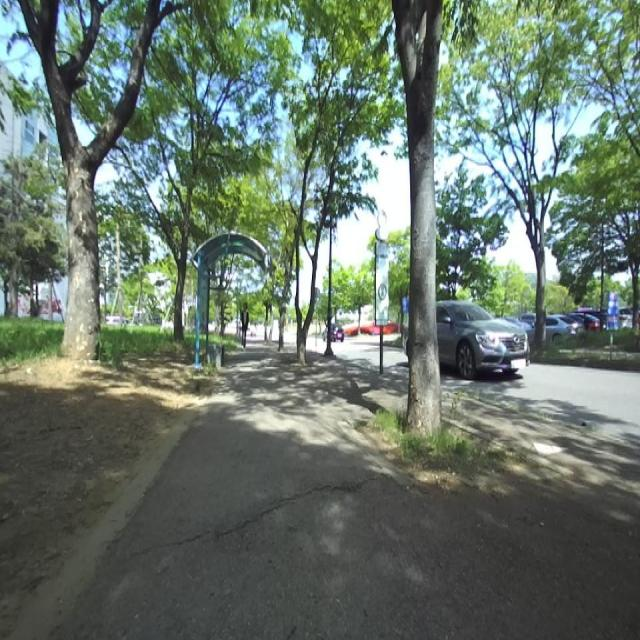sidewalk: (52, 350, 639, 639)
